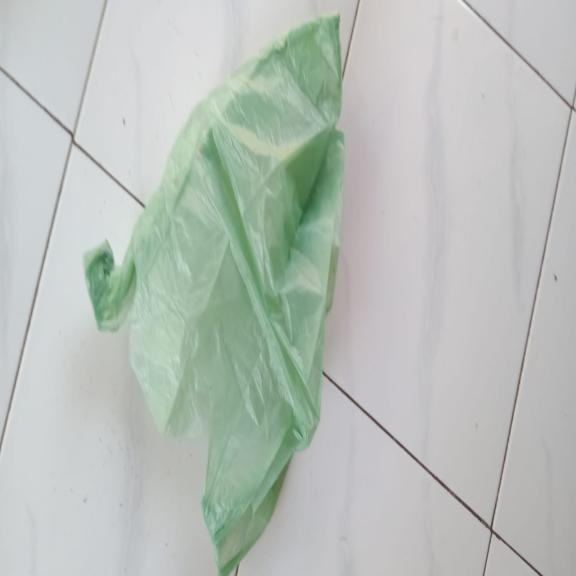Plastik: (83, 14, 347, 575)
